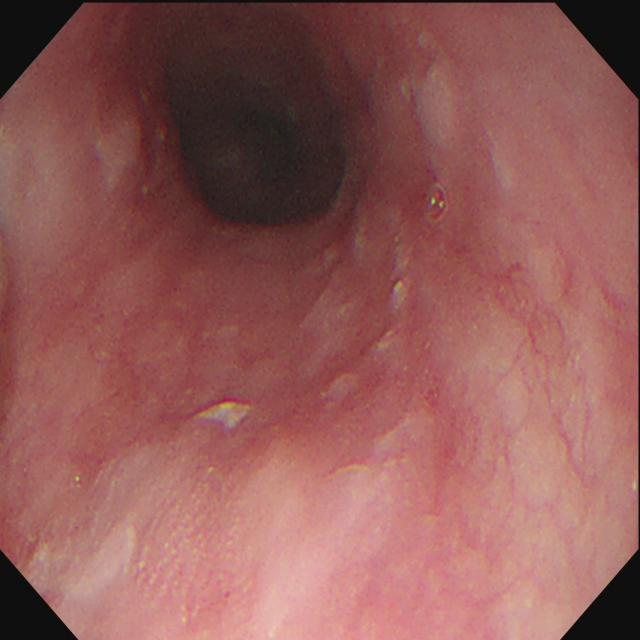E: (163, 67, 348, 232)
J: (196, 398, 250, 432)
T: (423, 181, 453, 224)
